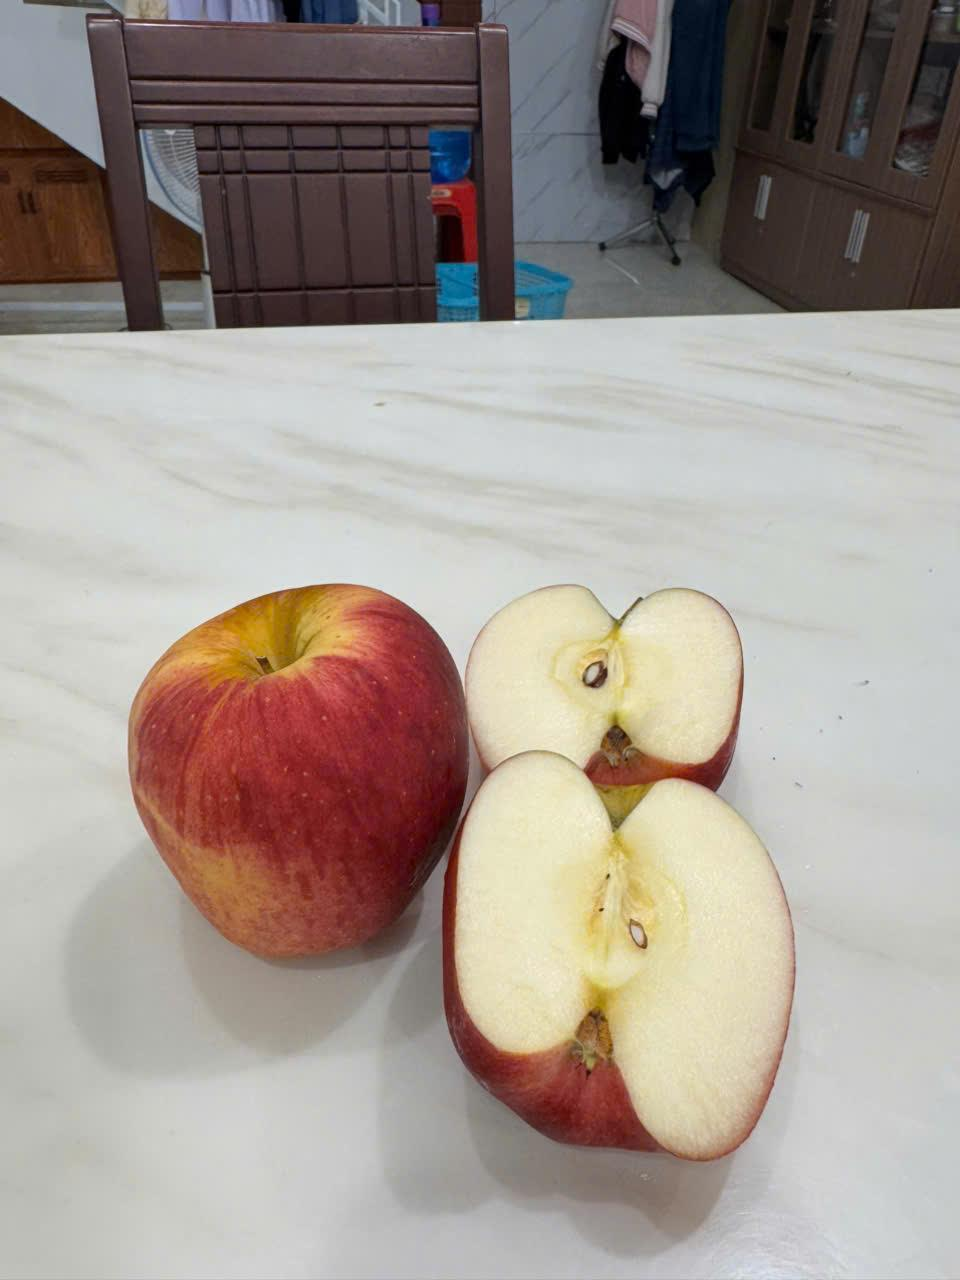apple: (456, 748, 814, 1205), (98, 556, 473, 959), (462, 568, 779, 793)
